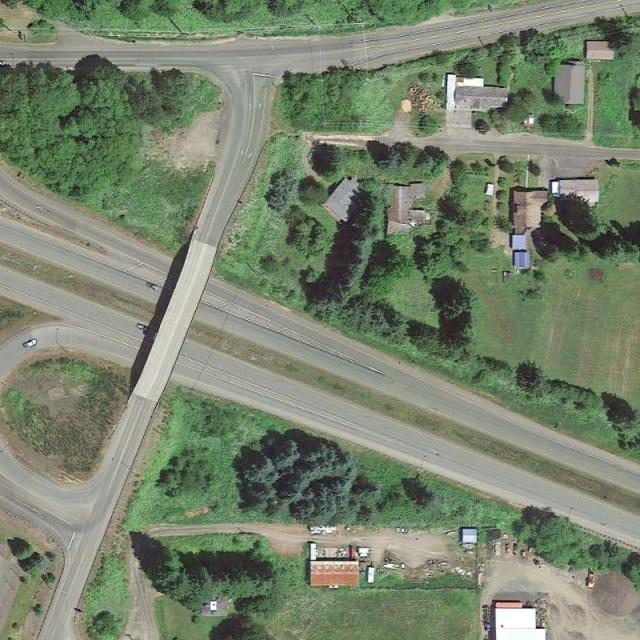vehicle: (23, 339, 36, 348), (147, 282, 156, 290), (137, 324, 148, 330), (1, 61, 5, 65)
